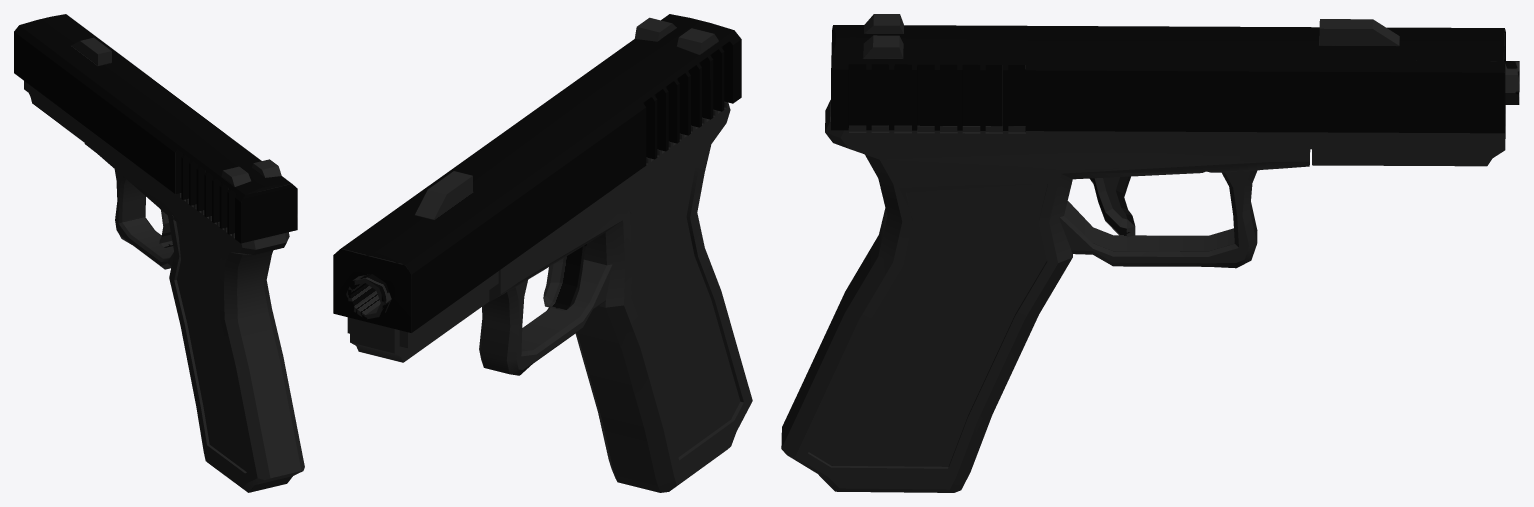
The model's file is gun.gltf.
3 views of the same model, side by side, from view 1: azimuth 30°, elevation 25°; view 2: azimuth 150°, elevation 25°; view 3: azimuth 270°, elevation 25° (orthographic). The views are drawn at different scales.
Parts seen in each view (by area): view 1: Cylinder; view 2: Cylinder; view 3: Cylinder.
Boxes of the visible parts, x1=… form: Cylinder: x1=14, y1=14, x2=304, y2=492; Cylinder: x1=333, y1=14, x2=752, y2=492; Cylinder: x1=781, y1=14, x2=1519, y2=492.
Size of the model in its own units: 0.2265 by 1.12 by 1.64.
Materials: 2 (2 with a texture image).
